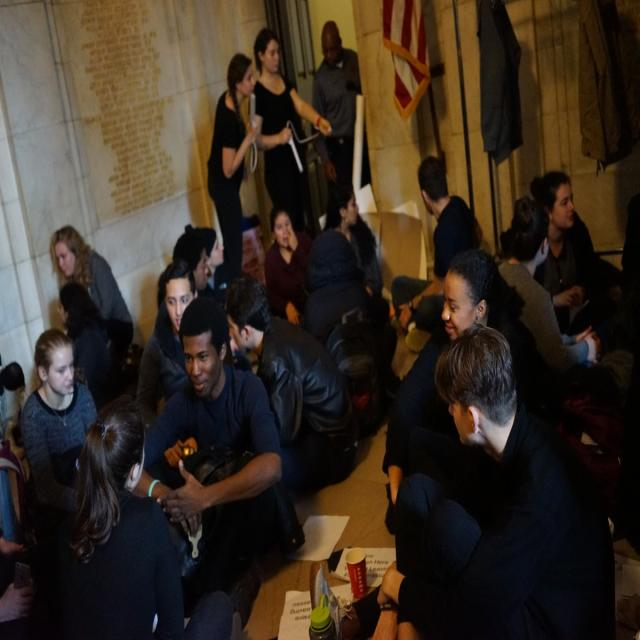body: (370, 319, 618, 639), (36, 400, 235, 640), (382, 245, 552, 510), (132, 296, 282, 589), (224, 278, 362, 492), (494, 194, 606, 448), (247, 25, 334, 246), (390, 154, 486, 352), (19, 326, 99, 545), (528, 169, 609, 354), (48, 223, 135, 378), (206, 52, 258, 278), (136, 258, 200, 428), (311, 19, 373, 189), (321, 177, 385, 300), (264, 202, 314, 326), (0, 531, 41, 640), (56, 278, 107, 354), (192, 222, 235, 312), (170, 230, 211, 296)
